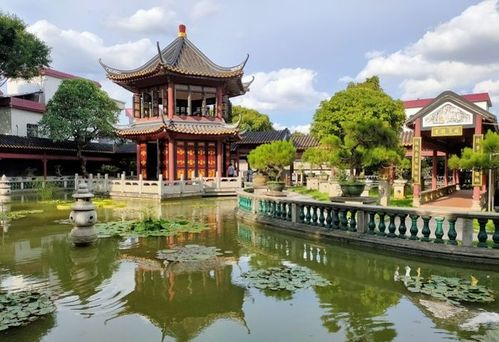buildings: (110, 51, 266, 223)
